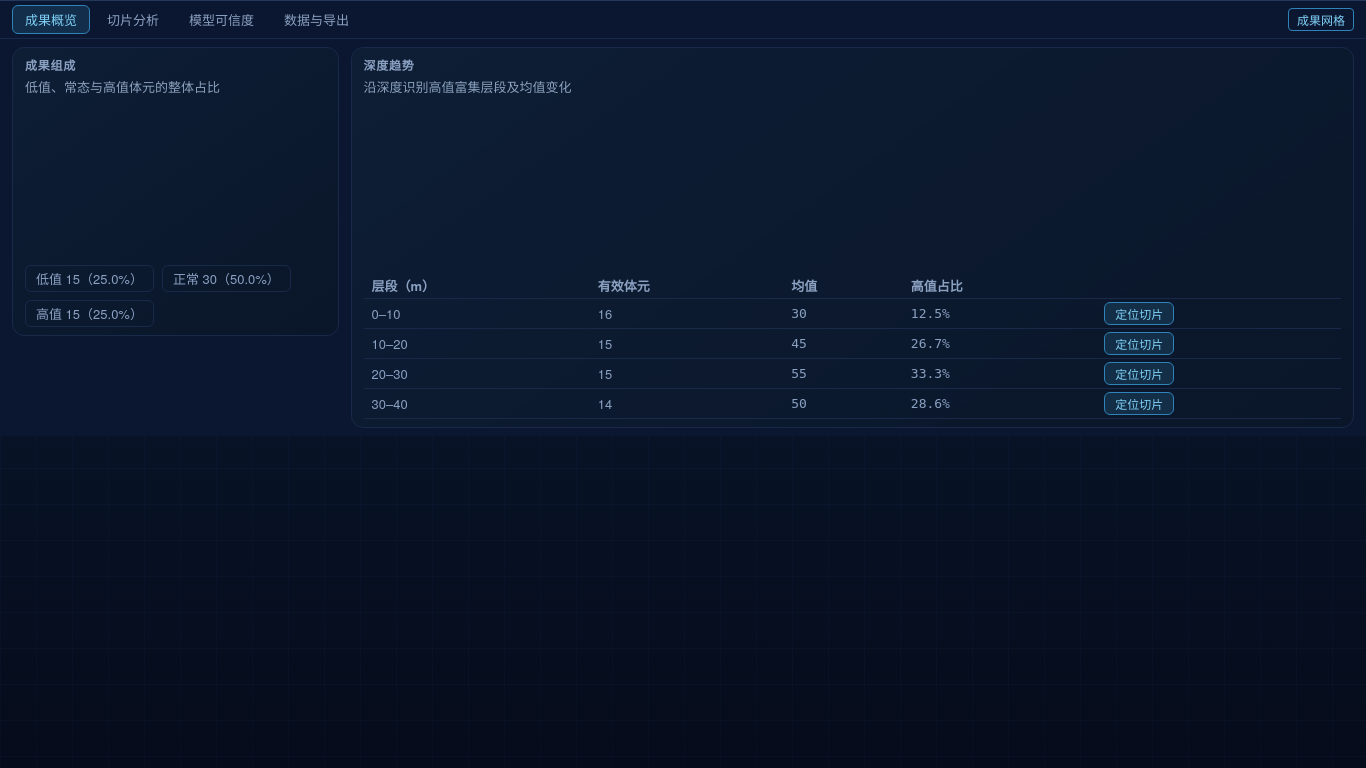
ResultGridEvidence（V6 四标签） › 模型证据：后端指标 + 残差类型化空态
Click the tab with test id "ge-tab-model": x=222, y=20 [176,5,267,34]
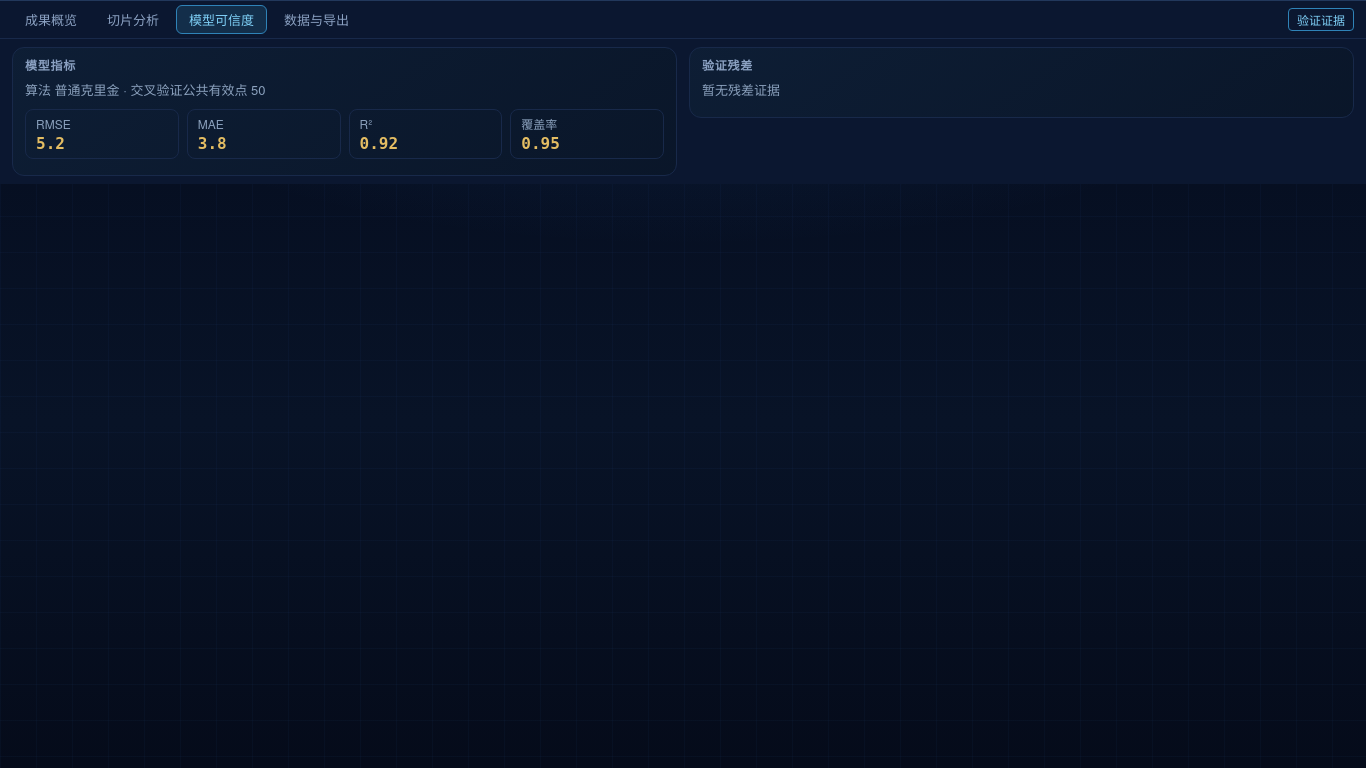
Expected: the element with test id "ge-pane-model" shows "普通克里金", [25,80,266,99]
Expected: the element with test id "ge-pane-model" shows "5.2", [36,134,65,153]
Expected: the element with test id "ge-pane-model" shows "暂无残差证据", [702,80,780,99]
